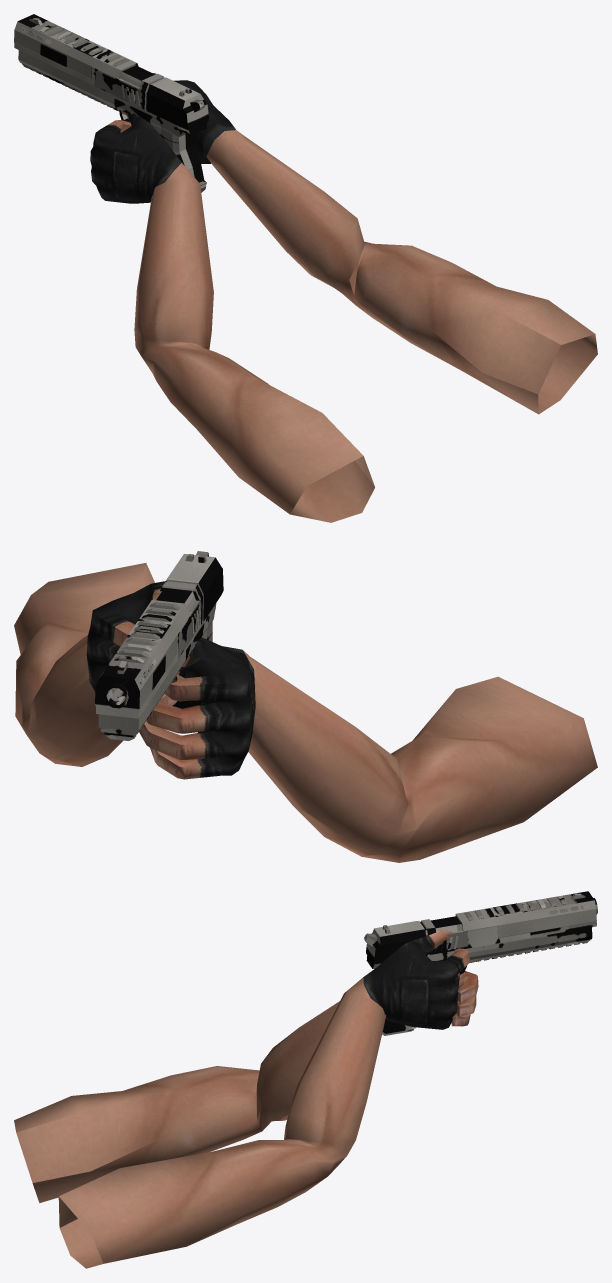
File: gun_eagle.glb
3 renders of one model, top to bottom at view 1: azimuth 30°, elevation 25°; view 2: azimuth 150°, elevation 25°; view 3: azimuth 270°, elevation 25°, orthographic. The views are drawn at different scales.
Parts seen in each view (by area): view 1: body_ARMS, slide_QUAT, body_QUAT, body_QUATP, slide_QUATP; view 2: body_ARMS, slide_QUAT, body_QUAT, slide_QUATP, body_QUATP; view 3: body_ARMS, slide_QUAT, body_QUAT, slide_QUATP.
Part boxes in pixels (left/top/right/bottom): body_ARMS: left=90, top=73, right=597, bottom=522; slide_QUAT: left=14, top=14, right=209, bottom=130; body_QUAT: left=18, top=50, right=207, bottom=136; body_QUATP: left=21, top=63, right=200, bottom=169; slide_QUATP: left=40, top=24, right=129, bottom=66; body_ARMS: left=14, top=563, right=597, bottom=862; slide_QUAT: left=95, top=551, right=223, bottom=718; body_QUAT: left=98, top=603, right=216, bottom=737; slide_QUATP: left=114, top=602, right=180, bottom=663; body_QUATP: left=103, top=622, right=212, bottom=740; body_ARMS: left=14, top=929, right=482, bottom=1268; slide_QUAT: left=364, top=891, right=596, bottom=964; body_QUAT: left=366, top=927, right=592, bottom=974; slide_QUATP: left=464, top=896, right=566, bottom=920.
Size of the model in its own units: 53.77 by 42.38 by 77.73.
Materials: 3 (3 with a texture image).
